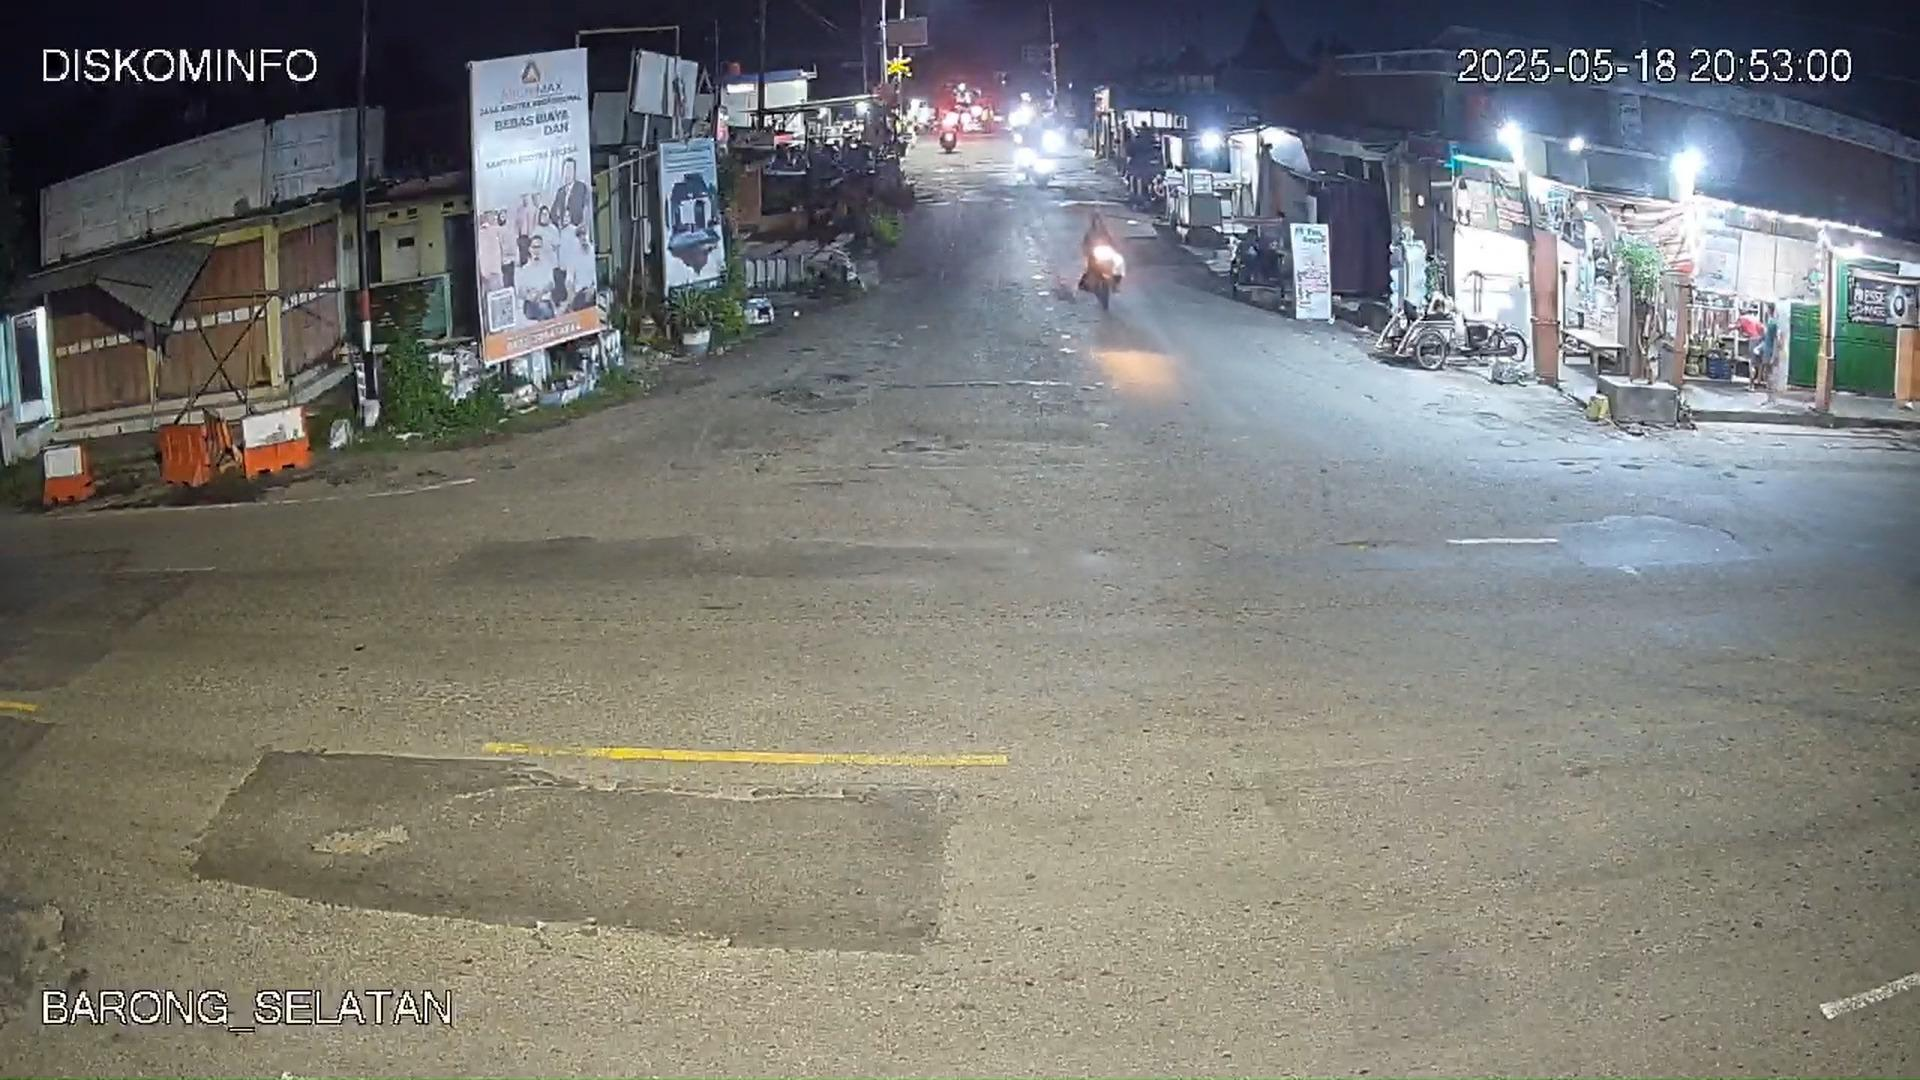Motor: (1075, 211, 1122, 311), (927, 104, 964, 150)
